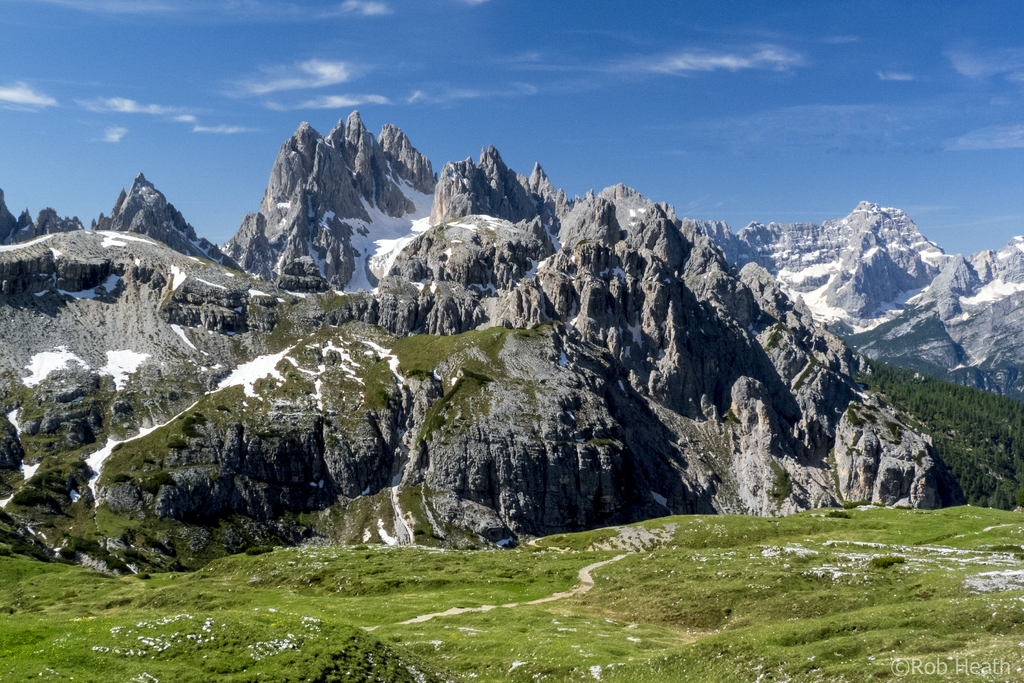Tree: (853, 350, 1024, 511)
